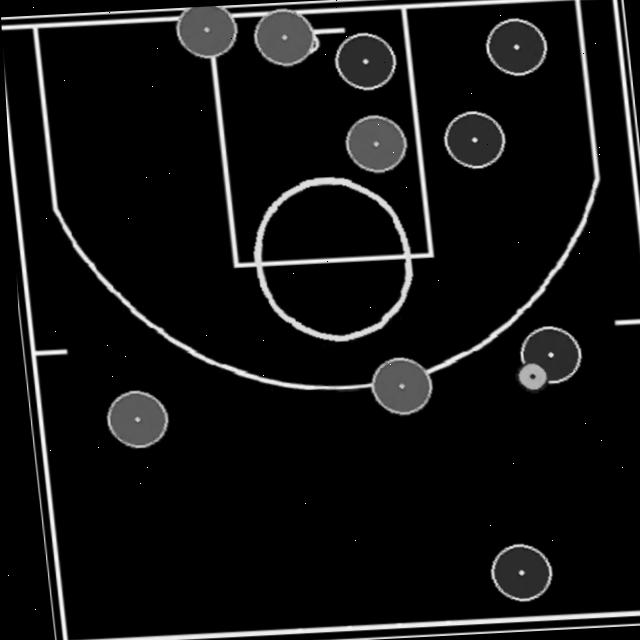Basketball: (510, 362, 542, 392)
Team_A: (441, 110, 503, 168), (483, 543, 545, 601), (484, 18, 546, 75), (515, 326, 576, 383), (333, 32, 394, 89)
Team_B: (100, 389, 162, 447), (365, 356, 427, 414), (253, 9, 317, 65), (343, 114, 404, 172), (175, 5, 236, 57)
